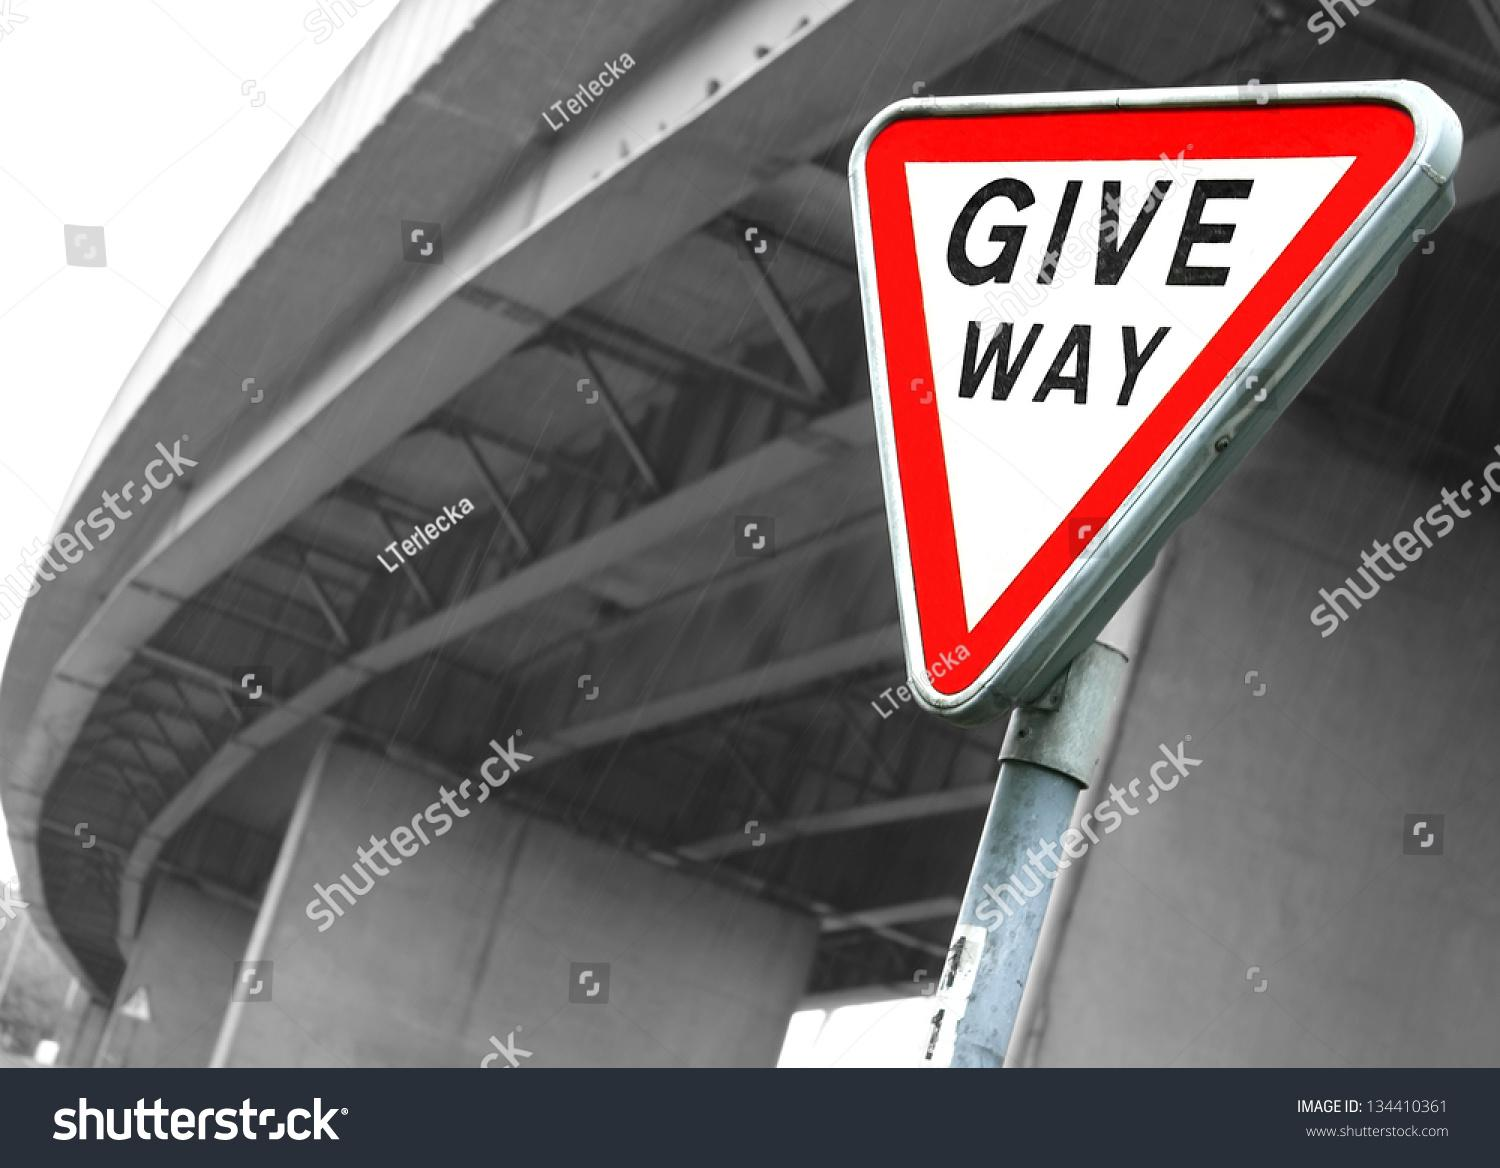Give Way: (806, 56, 1500, 722)
